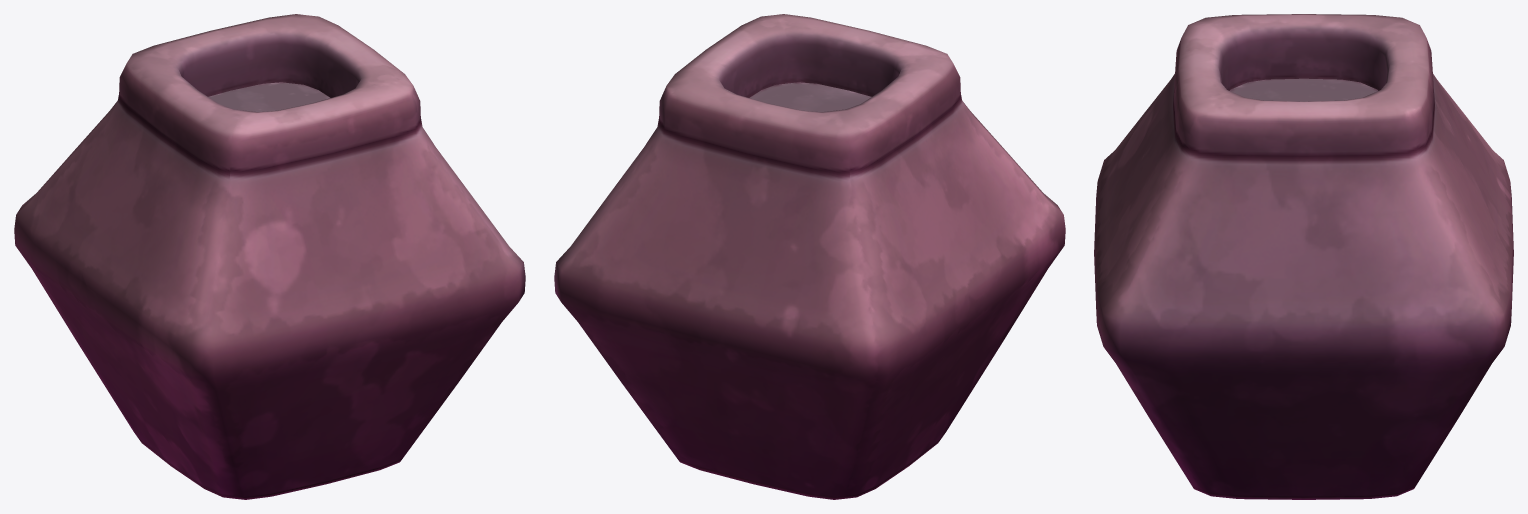
The model's file is SM_Vase_01.fbx.
3 views of the same model, side by side, from view 1: azimuth 30°, elevation 25°; view 2: azimuth 150°, elevation 25°; view 3: azimuth 270°, elevation 25° (orthographic). The views are drawn at different scales.
Parts seen in each view (by area): view 1: SM_Vase_01_LOD0; view 2: SM_Vase_01_LOD0; view 3: SM_Vase_01_LOD0.
Part boxes in pixels (x1,y1,x2,y2): SM_Vase_01_LOD0: [14, 14, 525, 499]; SM_Vase_01_LOD0: [554, 14, 1065, 499]; SM_Vase_01_LOD0: [1094, 14, 1513, 499].
Size of the model in its own units: 35.77 by 35.77 by 36.49.
1 material, 1 textured.
